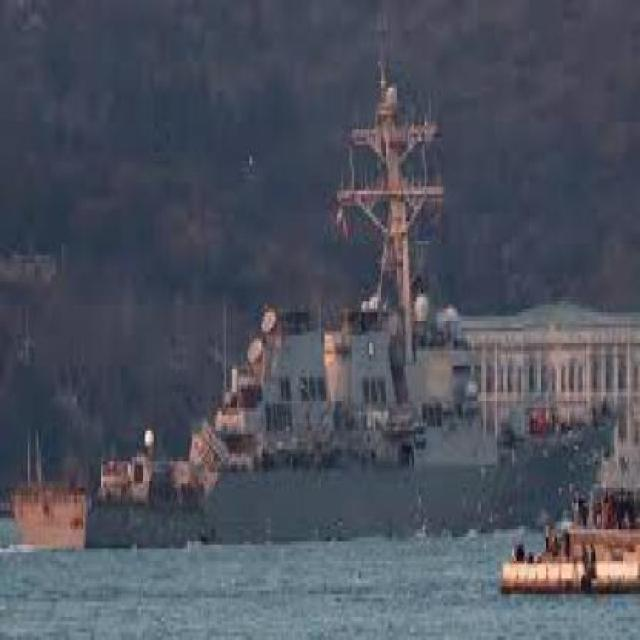warship2: (29, 264, 613, 550)
